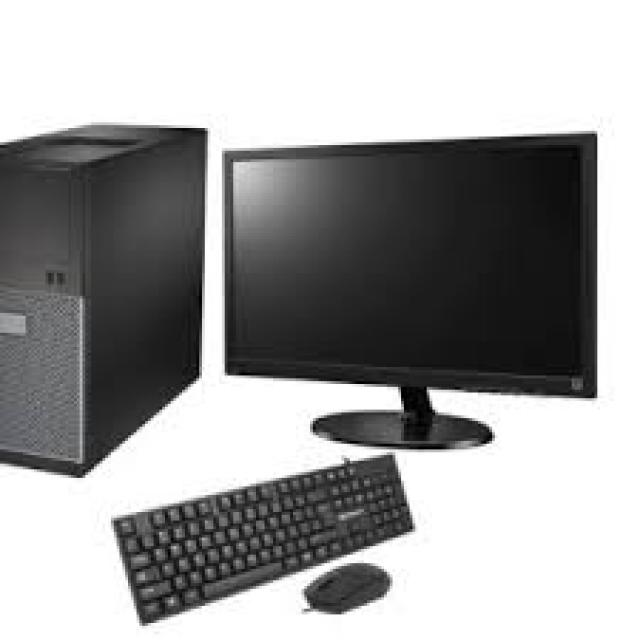Computer: (0, 107, 215, 481)
Monitor: (223, 119, 607, 399)
